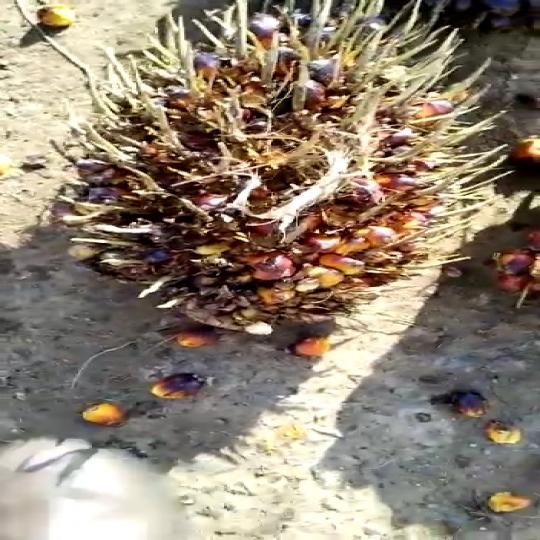terlalu masak: (50, 0, 540, 339)
